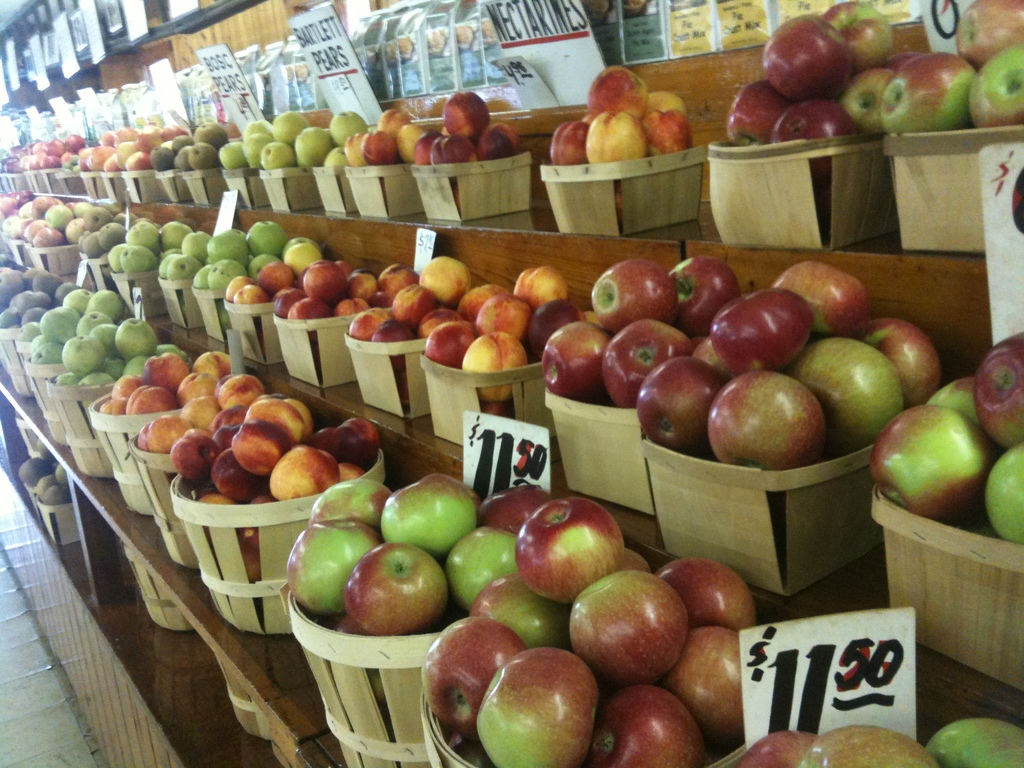Apple: (96, 348, 1023, 767), (225, 241, 1023, 547), (341, 0, 1023, 165), (570, 575, 698, 686), (0, 121, 188, 172), (0, 188, 91, 241)
